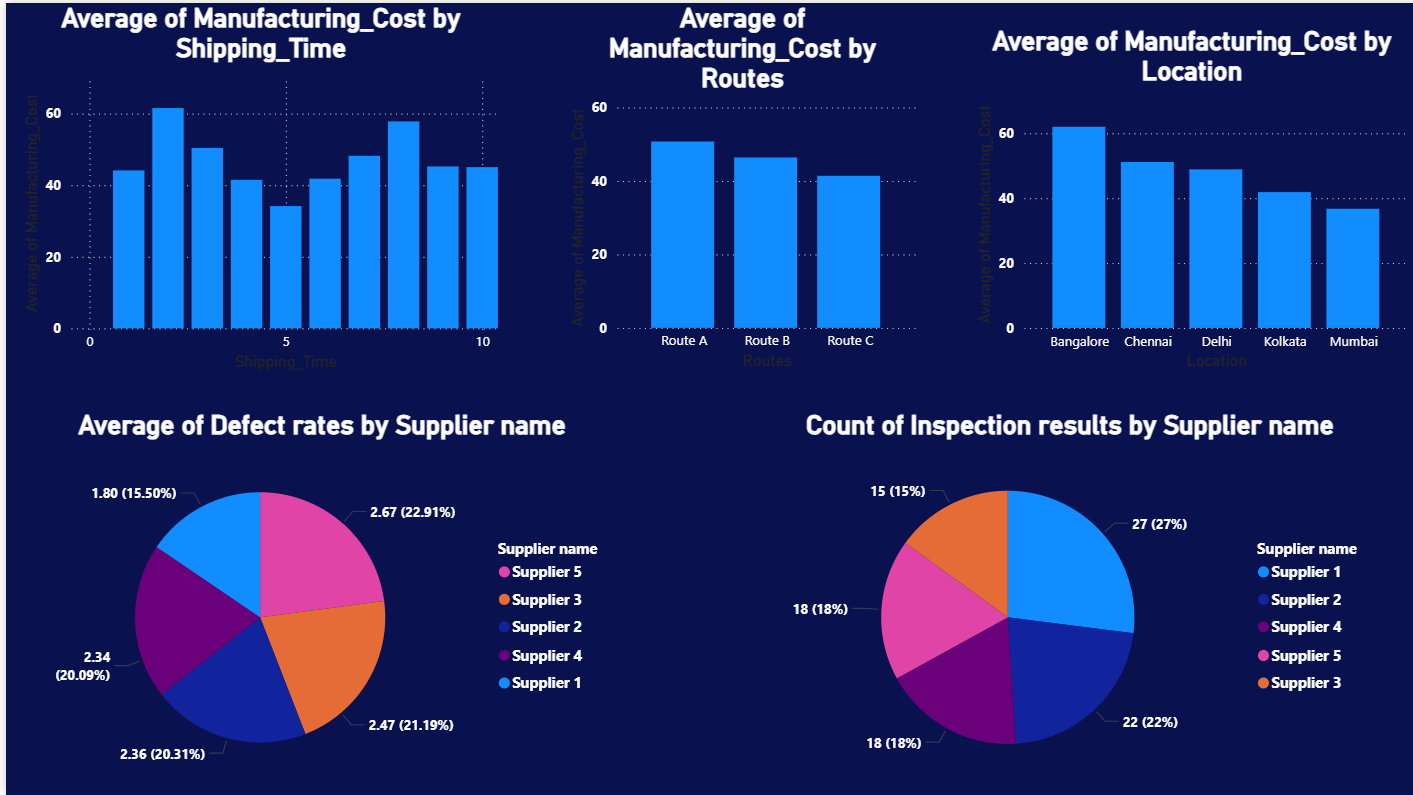

The dashboard page shown, as its layout file describes it:
{"tool":"powerbi","page":{"name":"Page 3","canvas":[1280,720],"ordinal":2},"visuals":[{"type":"columnChart","fields":{"Category":["supply_chain_data.Shipping_Time"],"Y":["Avg(supply_chain_data.Manufacturing_Cost)"]},"box":[10,0,443.8,338.8],"z":0},{"type":"columnChart","fields":{"Category":["supply_chain_data.Routes"],"Y":["Avg(supply_chain_data.Manufacturing_Cost)"]},"box":[506.7,0,326.7,338.3],"z":1000},{"type":"columnChart","fields":{"Category":["supply_chain_data.Location"],"Y":["Avg(supply_chain_data.Manufacturing_Cost)"]},"box":[876.2,21.2,403.8,317.5],"z":2000},{"type":"pieChart","fields":{"Category":["supply_chain_data.Supplier name"],"Y":["Avg(supply_chain_data.Defect rates)"]},"box":[10,370,555,350],"z":3000},{"type":"pieChart","fields":{"Category":["supply_chain_data.Supplier name"],"Y":["CountNonNull(supply_chain_data.Inspection results)"]},"box":[678.8,370,576.2,350],"z":4000}]}

Visuals, with their boxes in screenshot pixels (x1, y1, x2, y2), scaled from the page's 1280x720 canvas onto the 1413x795 screenshot:
columnChart - supply_chain_data.Shipping_Time x Avg(supply_chain_data.Manufacturing_Cost): 11 0 501 374
columnChart - supply_chain_data.Routes x Avg(supply_chain_data.Manufacturing_Cost): 559 0 920 374
columnChart - supply_chain_data.Location x Avg(supply_chain_data.Manufacturing_Cost): 967 23 1412 374
pieChart - supply_chain_data.Supplier name x Avg(supply_chain_data.Defect rates): 11 409 624 794
pieChart - supply_chain_data.Supplier name x CountNonNull(supply_chain_data.Inspection results): 749 409 1385 794
